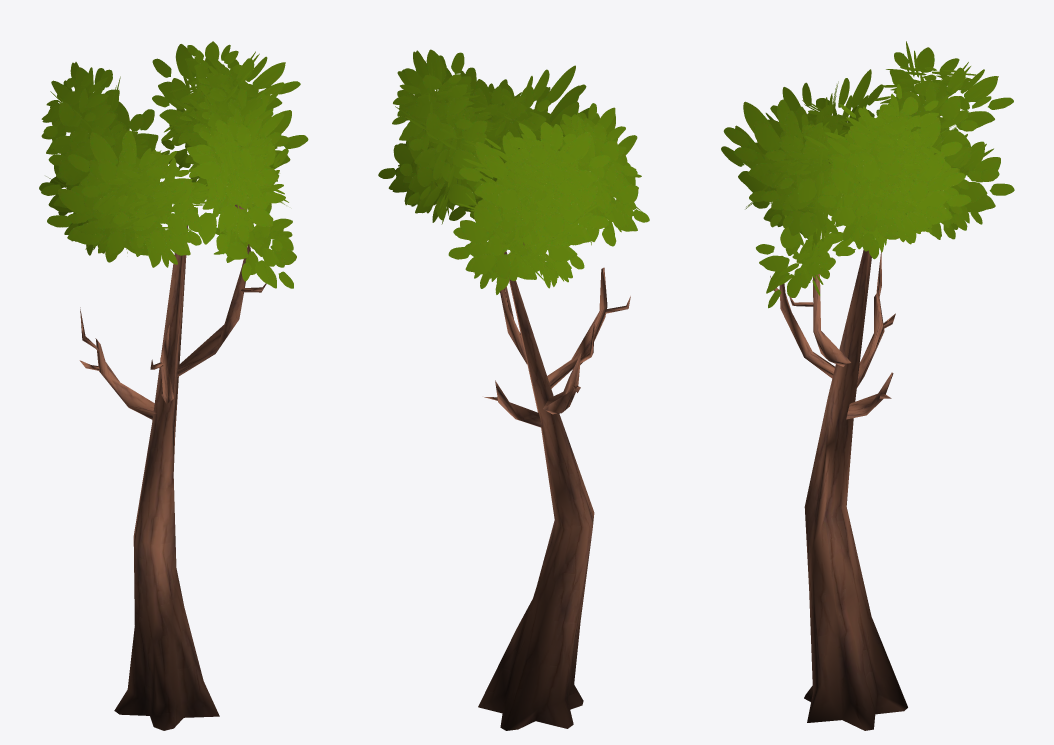
File: commontree-4-lo.glb
The picture shows the model from 3 angles, left to right: view 1: azimuth 30°, elevation 25°; view 2: azimuth 150°, elevation 25°; view 3: azimuth 270°, elevation 25°; orthographic projection. The views are drawn at different scales.
Visible parts, largest first — view 1: CommonTree_4; view 2: CommonTree_4; view 3: CommonTree_4.
Boxes of the visible parts, left/top/right/bottom form: CommonTree_4: left=39, top=41, right=308, bottom=730; CommonTree_4: left=378, top=49, right=649, bottom=730; CommonTree_4: left=721, top=41, right=1014, bottom=730.
Bounding box in the file's own units: 4.43 × 9.65 × 4.41.
2 materials, 2 textured.
